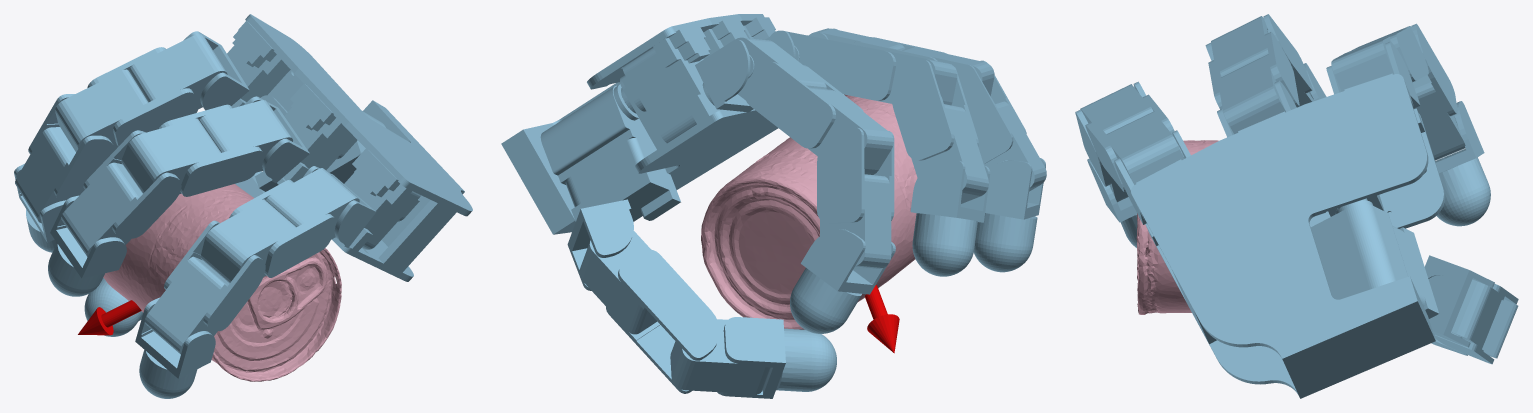
3 views of the same model, side by side, from view 1: azimuth 30°, elevation 25°; view 2: azimuth 150°, elevation 25°; view 3: azimuth 270°, elevation 25° (orthographic). The views are drawn at different scales.
Parts seen in each view (by area): view 1: world, tomato_soup_can.stl; view 2: world, tomato_soup_can.stl; view 3: world, tomato_soup_can.stl.
Part boxes in pixels (x1=…): world: x1=14, y1=14, x2=472, y2=398; tomato_soup_can.stl: x1=103, y1=184, x2=341, y2=381; world: x1=501, y1=14, x2=1046, y2=398; tomato_soup_can.stl: x1=701, y1=94, x2=917, y2=329; world: x1=1075, y1=14, x2=1518, y2=398; tomato_soup_can.stl: x1=1136, y1=140, x2=1218, y2=314.
Size of the model in its own units: 0.1954 by 0.1402 by 0.1702.
